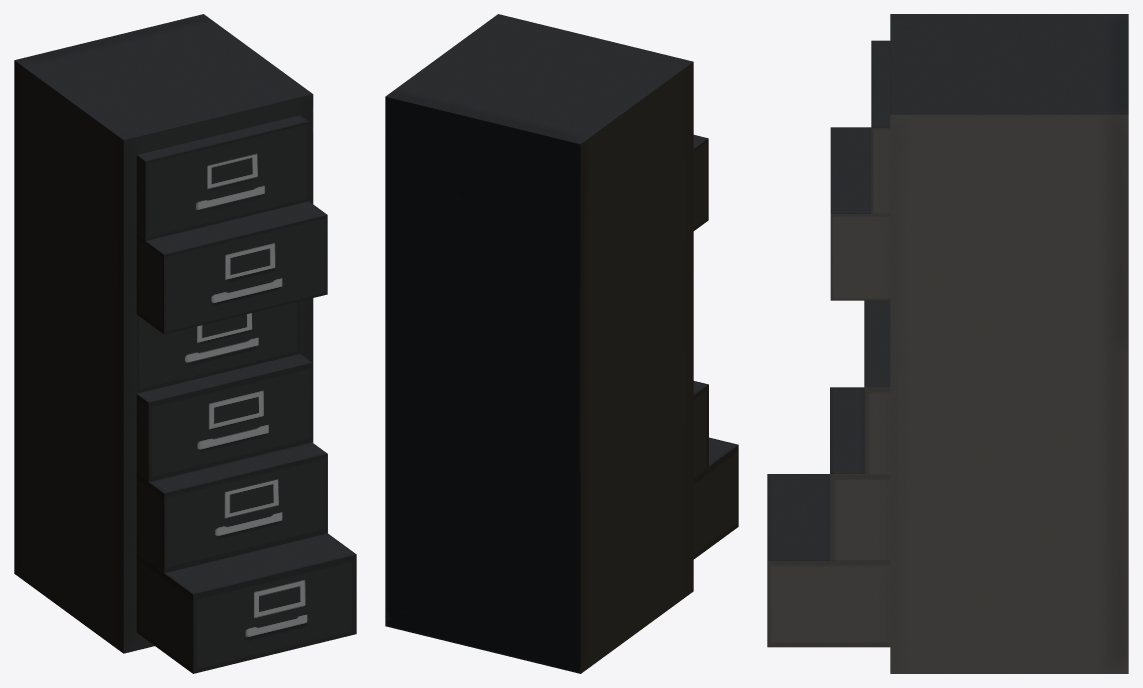
The model's file is FilingCabinet_001.fbx.
3 renders of one model, left to right at view 1: azimuth 30°, elevation 25°; view 2: azimuth 150°, elevation 25°; view 3: azimuth 270°, elevation 25°, orthographic. The views are drawn at different scales.
Visible parts, largest first — view 1: FilingCabinet_001; view 2: FilingCabinet_001; view 3: FilingCabinet_001.
Boxes of the visible parts, box(x1,y1,x2,y2) form: FilingCabinet_001: box(14, 14, 356, 673); FilingCabinet_001: box(385, 14, 738, 673); FilingCabinet_001: box(767, 14, 1128, 673).
Size of the model in its own units: 49.28 by 128 by 74.75.
Materials: 1 (1 with a texture image).
